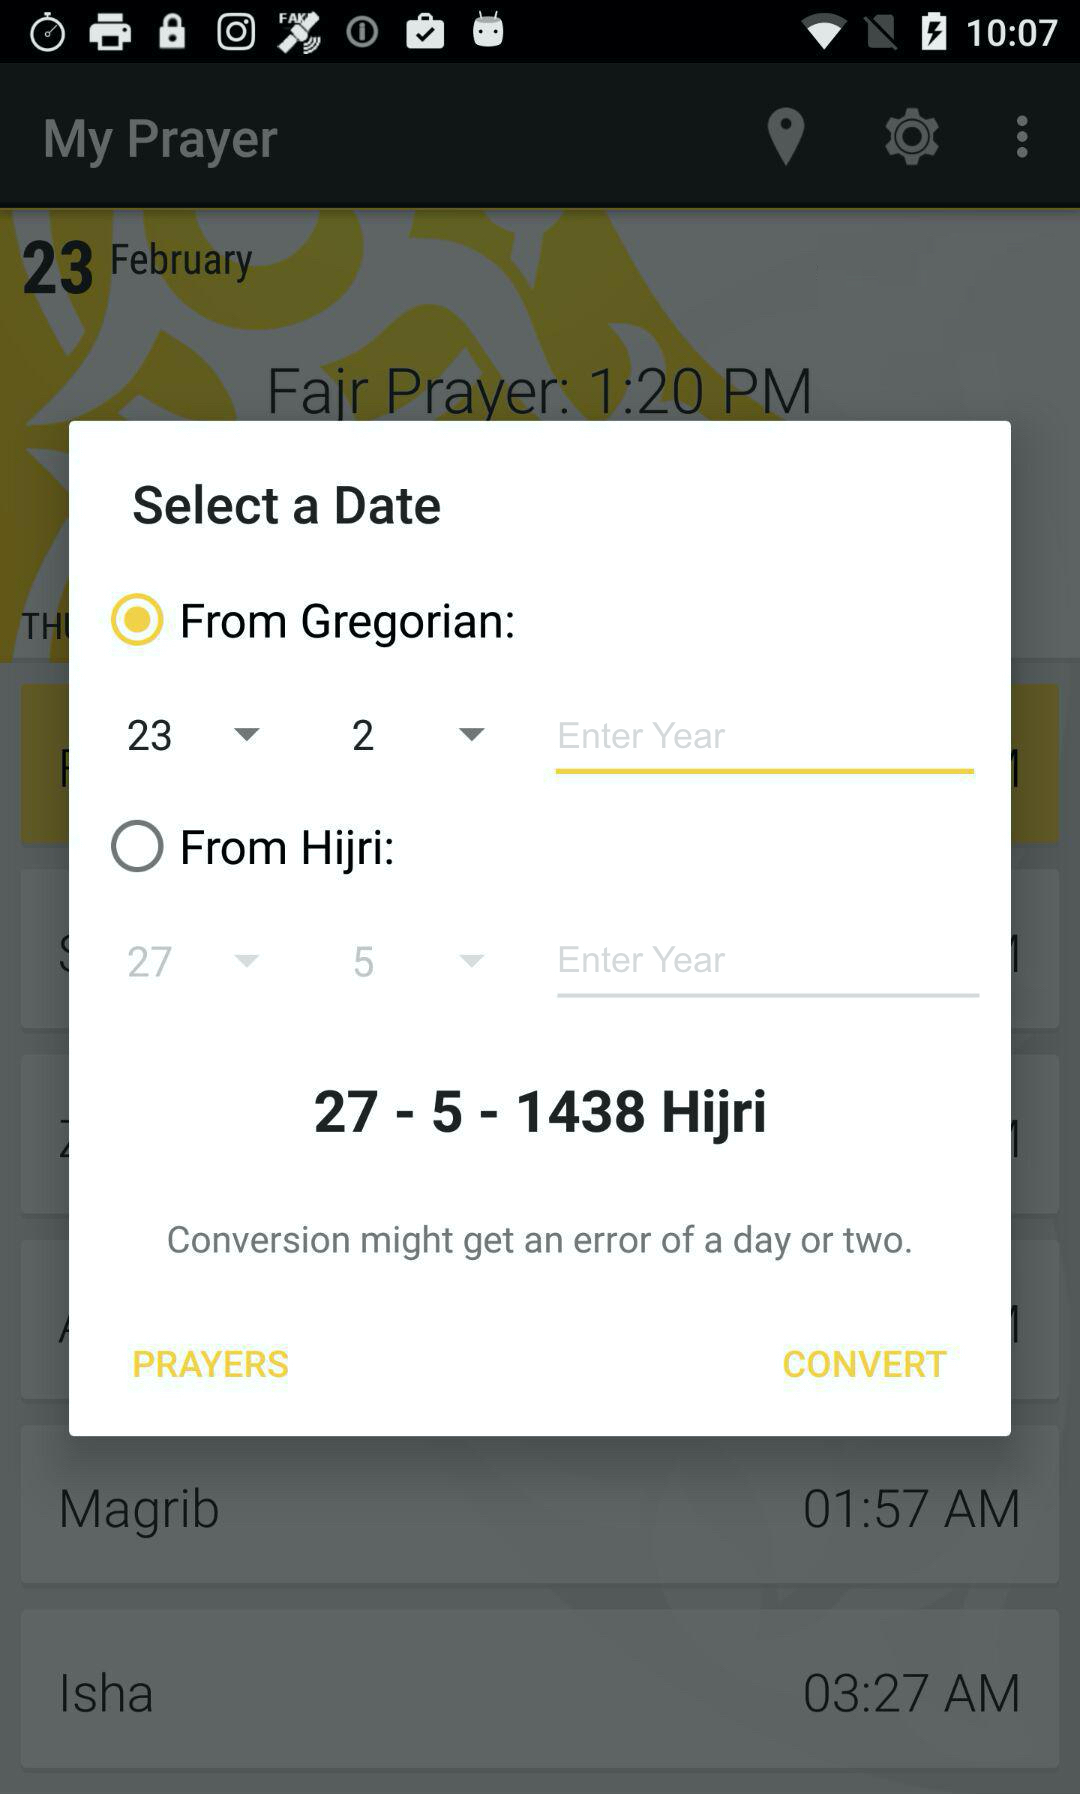CheckedTextView: (111, 593, 514, 648), (111, 820, 393, 876)
EditText: (557, 944, 980, 1000), (555, 721, 972, 775)
Icon: (884, 108, 939, 168), (767, 109, 806, 168), (1016, 117, 1029, 161), (234, 728, 261, 742), (460, 728, 486, 742), (234, 953, 260, 967), (460, 955, 486, 967)
Modal: (69, 422, 1012, 1436)
Text: (272, 366, 810, 416), (169, 1225, 912, 1261), (315, 1089, 767, 1146), (183, 604, 514, 648), (135, 484, 441, 525), (45, 119, 279, 170), (183, 830, 393, 876), (805, 1486, 1019, 1529), (805, 1674, 1019, 1715), (61, 1486, 219, 1539), (113, 243, 254, 286), (559, 721, 726, 750), (561, 946, 726, 974), (784, 1349, 948, 1378), (135, 1351, 290, 1378), (22, 240, 94, 296), (61, 1672, 154, 1715), (128, 719, 173, 751), (128, 946, 173, 978), (354, 944, 375, 979), (354, 720, 375, 750)
UpperTaskBar: (1, 1, 1080, 64)
